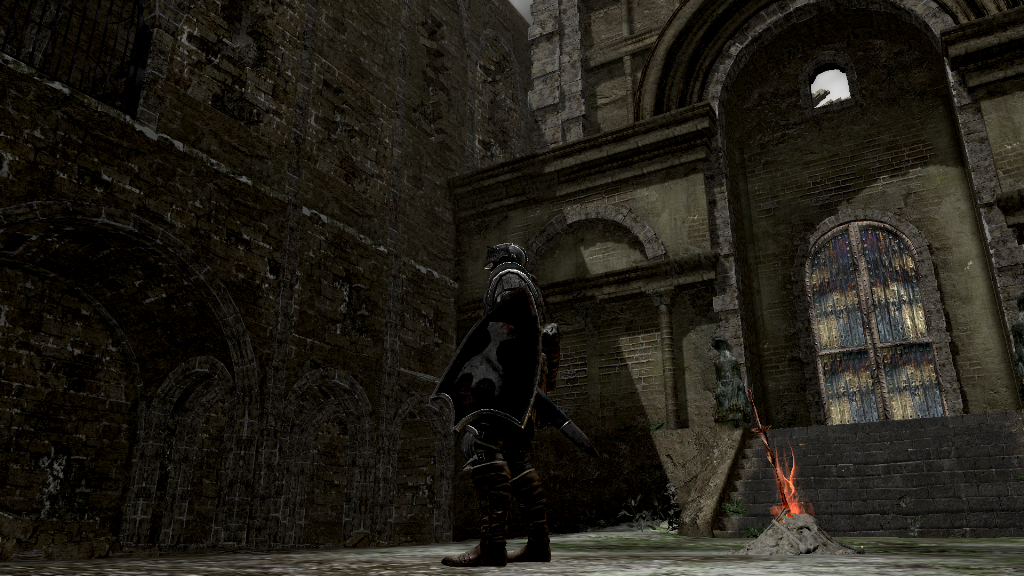bonfire: (744, 385, 830, 541)
player: (429, 241, 563, 568)
